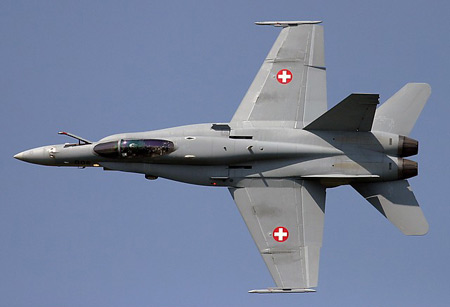airplane: (12, 18, 432, 290)
